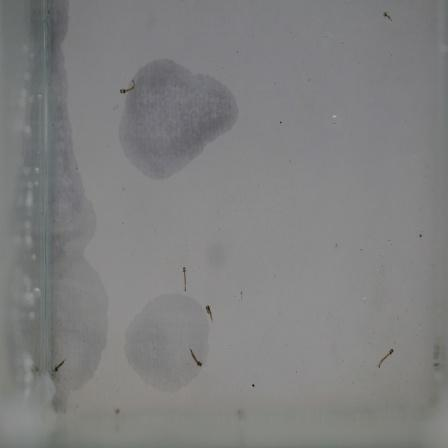Jentik-Nyamuk: (374, 343, 400, 374), (187, 342, 209, 373), (116, 74, 140, 101), (201, 299, 221, 328), (177, 263, 194, 295), (51, 353, 73, 377), (378, 9, 397, 30)
